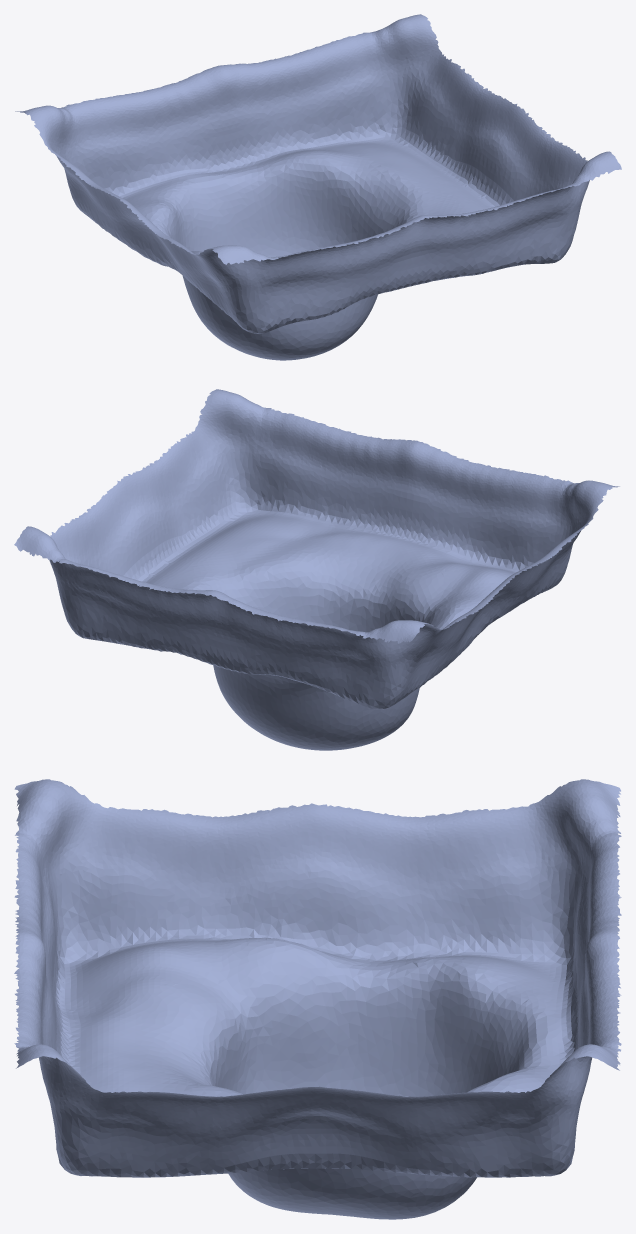
Rendered from protoTypeStage.fbx.
The picture shows the model from 3 angles, top to bottom: view 1: azimuth 30°, elevation 25°; view 2: azimuth 150°, elevation 25°; view 3: azimuth 270°, elevation 25°; orthographic projection. The views are drawn at different scales.
Parts seen in each view (by area): view 1: Plane; view 2: Plane; view 3: Plane.
Boxes of the visible parts, bbox=[...] form: Plane: bbox=[15, 14, 621, 360]; Plane: bbox=[14, 389, 619, 750]; Plane: bbox=[14, 779, 621, 1219].
Bounding box in the file's own units: 1449 × 727 × 1325.
